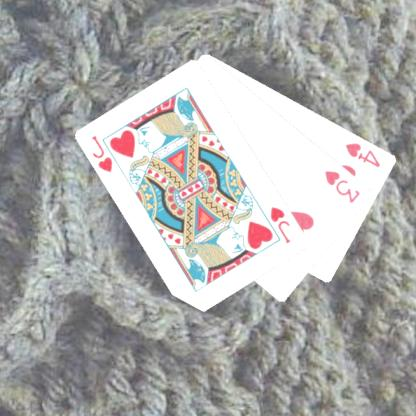3H: (322, 167, 362, 205)
4H: (342, 140, 382, 170)
JH: (267, 203, 293, 245), (89, 132, 115, 174)
